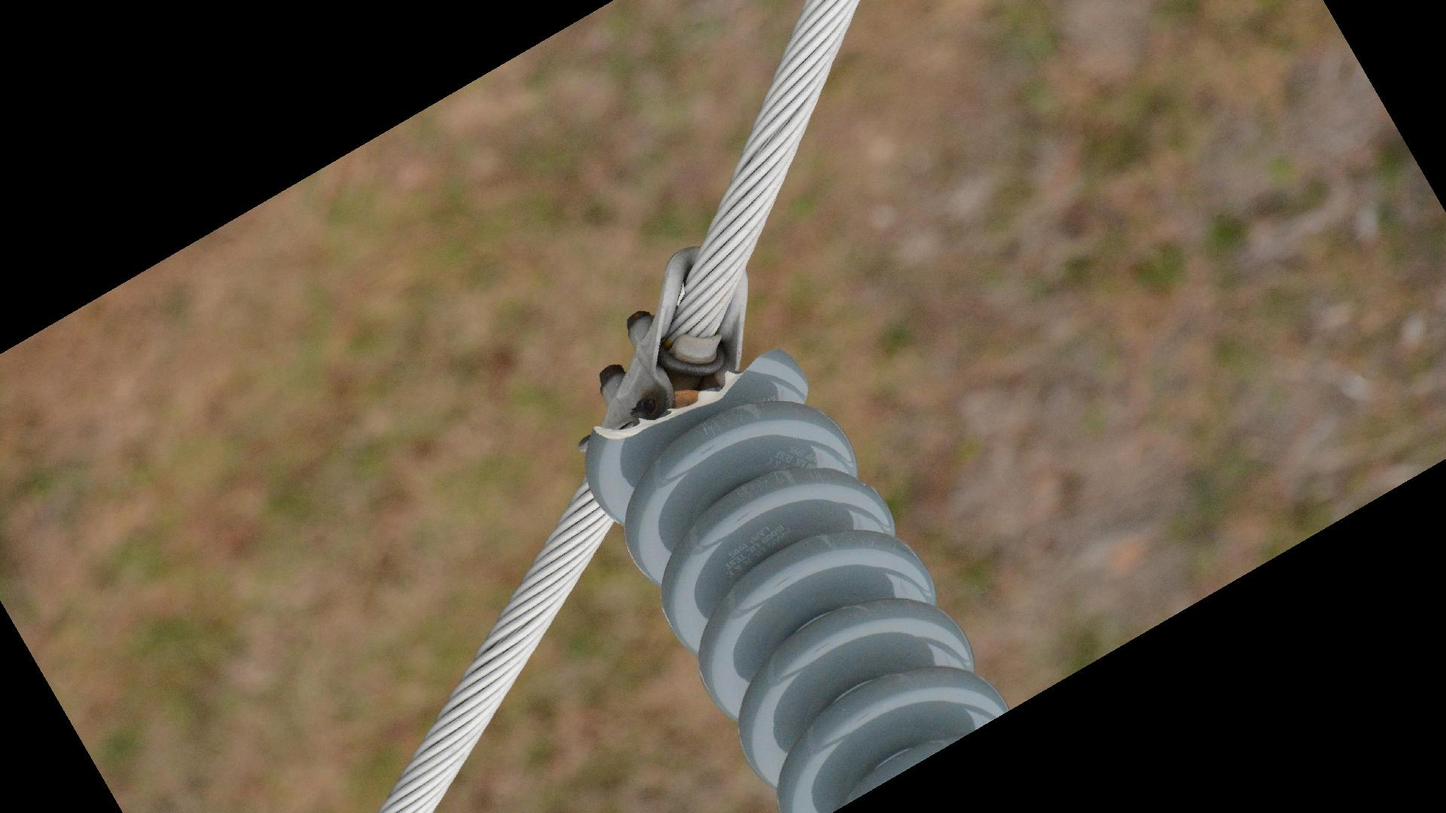insulator: (573, 343, 1014, 813)
insulator_breakage: (587, 340, 781, 444)
